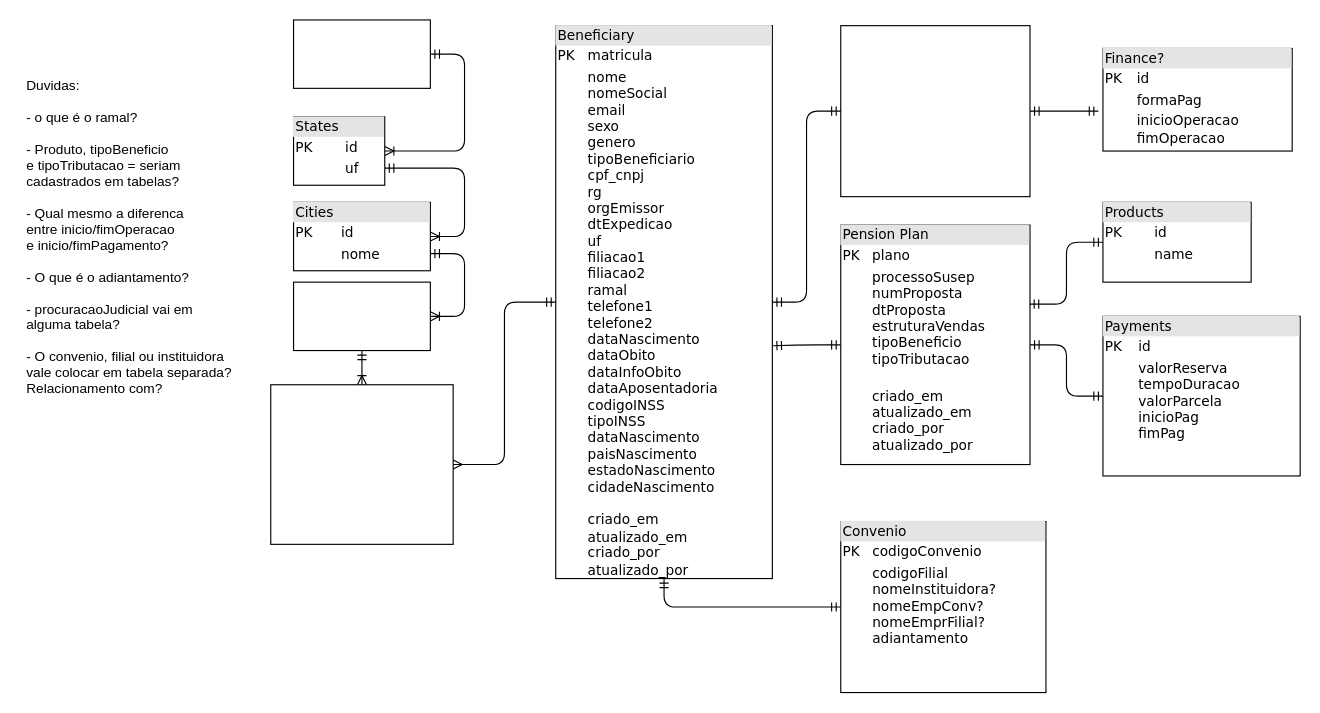
Image size: 1320x713. Some labels were removed from this diagram. Here are the shapes that lost their labels. From the top down, the box of each, then its label:
(292, 19, 430, 88): Countries PK id nome
(840, 25, 1030, 197): Account Bank PK id conta tipoConta banco agencia digito contaCorrente digito
(292, 281, 430, 351): District PK id nome
(270, 384, 453, 544): Address PK id cep logradouro numero complemento pontoRef correspondecia: boolean
